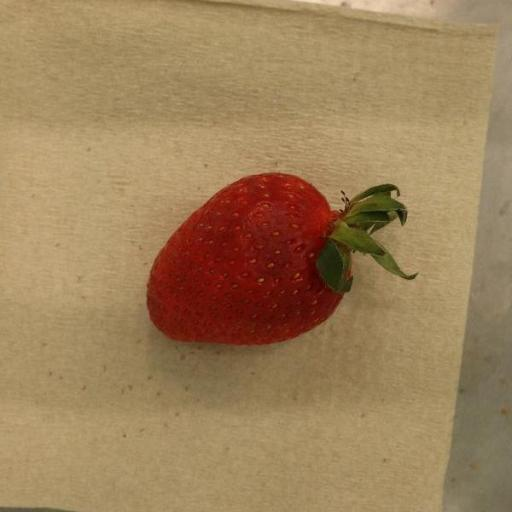Strawberry: (146, 173, 417, 346)
